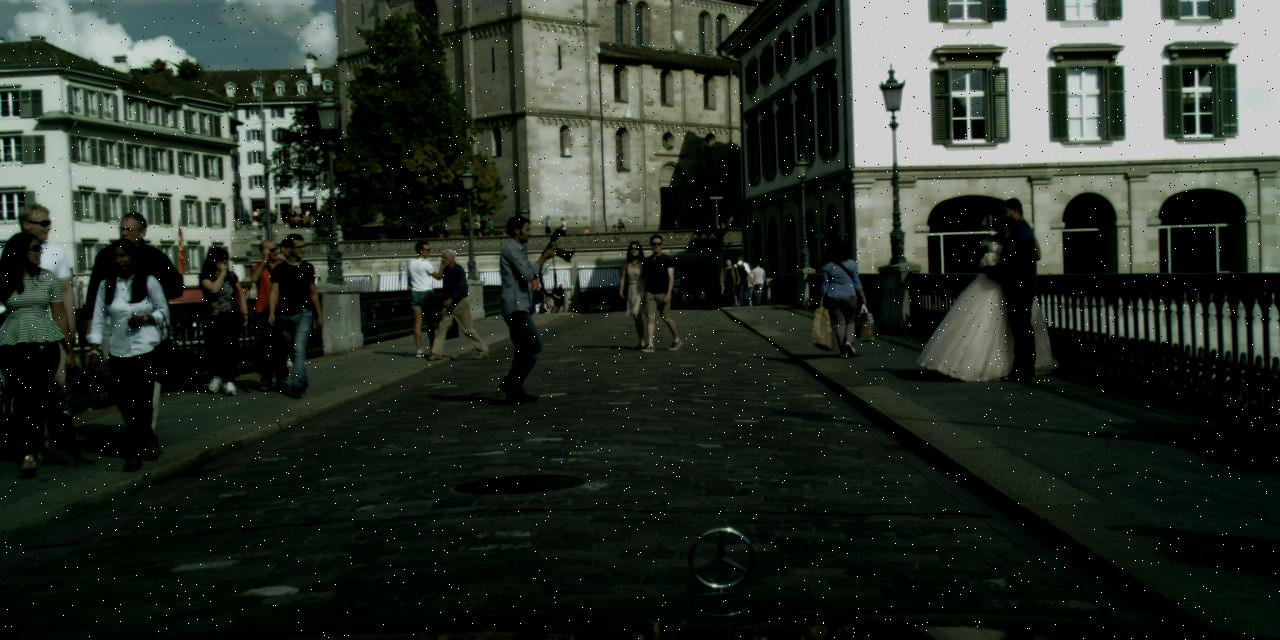ped: (0, 200, 88, 450), (90, 212, 182, 438), (88, 238, 180, 463), (0, 232, 76, 468), (480, 214, 556, 400), (979, 197, 1053, 378), (265, 232, 331, 394), (966, 206, 1031, 368), (240, 239, 300, 389), (190, 246, 249, 392), (262, 238, 314, 367), (635, 233, 683, 349), (818, 240, 865, 354), (402, 240, 448, 354), (432, 248, 476, 358), (616, 240, 660, 348), (731, 256, 751, 305), (720, 258, 739, 306), (748, 260, 766, 306), (738, 262, 755, 306), (552, 282, 566, 316), (245, 210, 260, 230), (542, 214, 552, 240), (716, 215, 736, 228), (477, 217, 487, 242), (682, 288, 692, 313), (687, 287, 697, 312), (697, 287, 707, 312), (484, 217, 494, 241), (557, 217, 567, 240), (705, 288, 714, 312), (462, 219, 471, 242), (472, 219, 481, 242), (678, 290, 686, 311), (582, 225, 590, 242), (299, 213, 306, 232), (308, 213, 315, 232), (616, 218, 623, 237), (498, 227, 505, 245), (293, 214, 300, 231), (611, 223, 618, 240), (704, 216, 710, 234), (672, 217, 678, 233)
